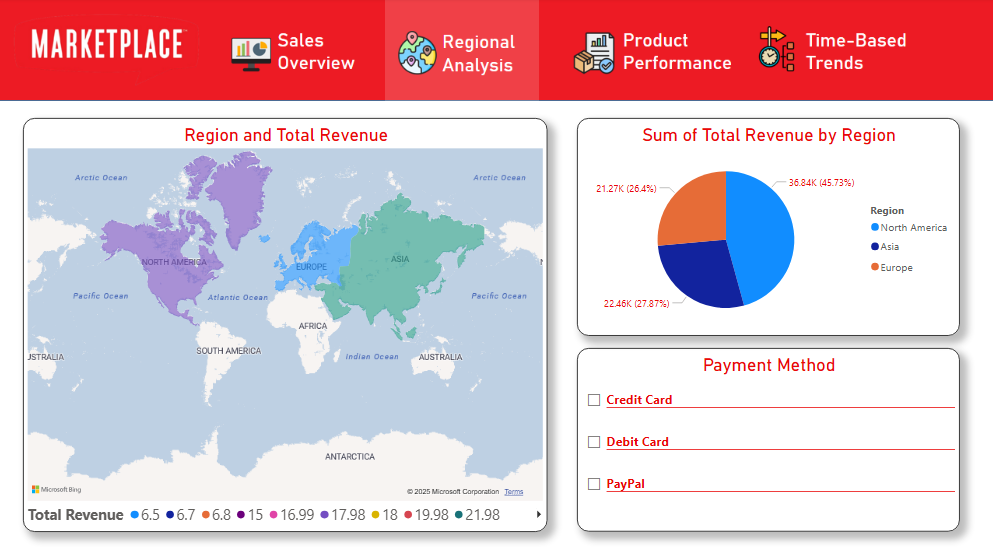

This screenshot's page, from the dashboard's own definition file:
{"tool":"powerbi","page":{"name":"Regional Analysis","canvas":[1280,720],"ordinal":1},"visuals":[{"type":"shape","box":[497.3,0,197.9,133.7],"z":0},{"type":"actionButton","box":[280.2,0,197.9,133.7],"z":1000},{"type":"actionButton","box":[496.1,0,199.2,133.7],"z":2000},{"type":"actionButton","box":[727.4,0,227.5,133.7],"z":3000},{"type":"actionButton","box":[963.9,0,227.5,133.7],"z":4000},{"type":"filledMap","fields":{"Category":["Online Sales Data.Region"],"Series":["Online Sales Data.Total Revenue"]},"box":[32.4,154.1,674.3,532.4],"z":5000},{"type":"pieChart","fields":{"Category":["Online Sales Data.Region"],"Y":["Sum(Online Sales Data.Total Revenue)"]},"box":[744.6,154.1,491.9,279.7],"z":6000},{"type":"slicer","title":"Payment Method","fields":{"Values":["Online Sales Data.Payment Method"]},"box":[744.6,450,491.9,236.5],"z":7000}]}

Visuals, with their boxes in screenshot pixels (x1, y1, x2, y2), scaled from the page's 1280x720 canvas onto the 993x557 screenshot:
shape: [left=386, top=0, right=539, bottom=103]
actionButton: [left=217, top=0, right=371, bottom=103]
actionButton: [left=385, top=0, right=539, bottom=103]
actionButton: [left=564, top=0, right=741, bottom=103]
actionButton: [left=748, top=0, right=924, bottom=103]
filledMap - Online Sales Data.Region x Online Sales Data.Total Revenue: [left=25, top=119, right=548, bottom=531]
pieChart - Online Sales Data.Region x Sum(Online Sales Data.Total Revenue): [left=578, top=119, right=959, bottom=336]
"Payment Method" slicer: [left=578, top=348, right=959, bottom=531]
